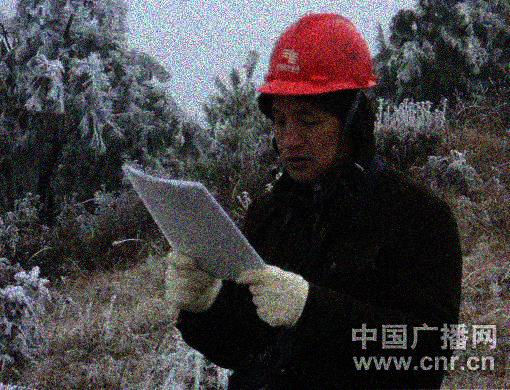helmet: (254, 12, 378, 183)
